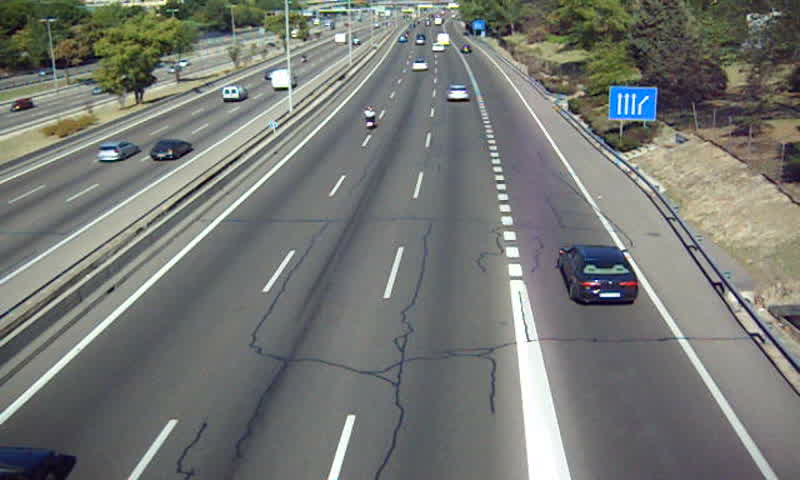car: (559, 245, 639, 304), (447, 84, 470, 102), (410, 58, 429, 72)
motorcycle: (361, 105, 378, 131)
